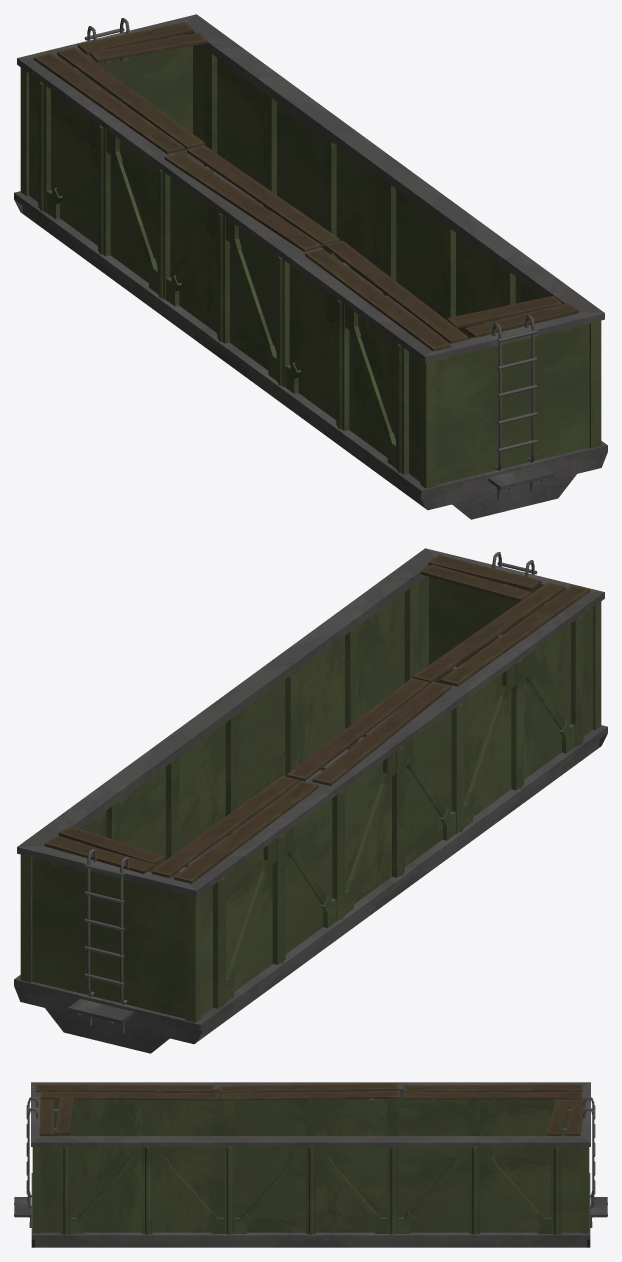
Rendered from CoalWagon_Body.fbx.
3 views of the same model, one above another, from view 1: azimuth 30°, elevation 25°; view 2: azimuth 150°, elevation 25°; view 3: azimuth 270°, elevation 25° (orthographic). The views are drawn at different scales.
Parts seen in each view (by area): view 1: CoalWagon_Body; view 2: CoalWagon_Body; view 3: CoalWagon_Body.
Boxes of the visible parts, x1,y1,x2,y2 form: CoalWagon_Body: [14, 14, 607, 519]; CoalWagon_Body: [14, 548, 607, 1053]; CoalWagon_Body: [14, 1082, 607, 1247].
Size of what is drawn, in the model's own units: 361 by 349 by 1453.
